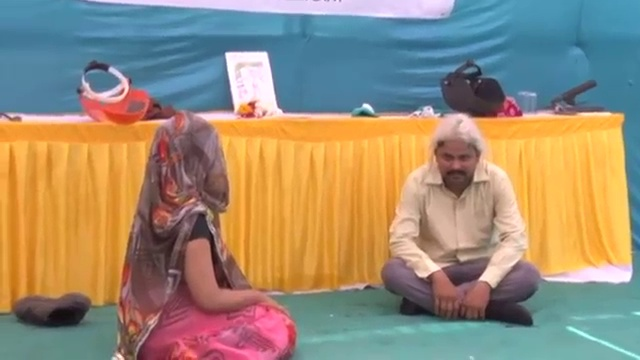helmet_off: (144, 112, 231, 213), (431, 114, 482, 191)
person: (111, 109, 299, 360), (377, 113, 543, 332)
